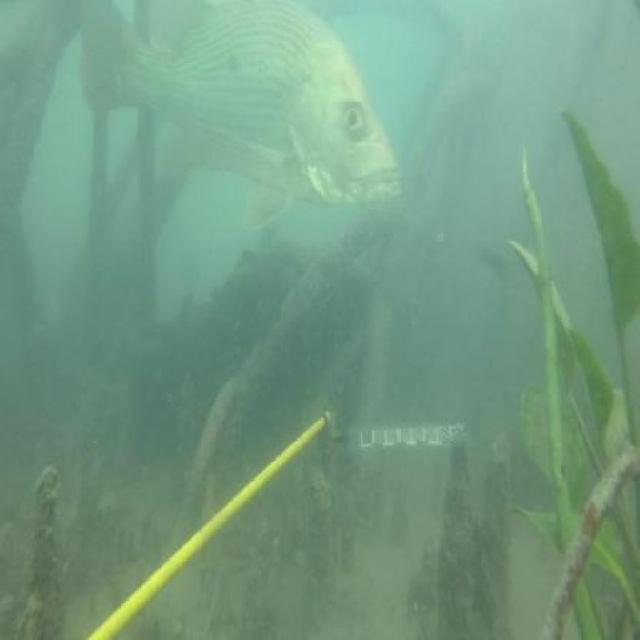lutjanus_johnii: (76, 0, 403, 238)
